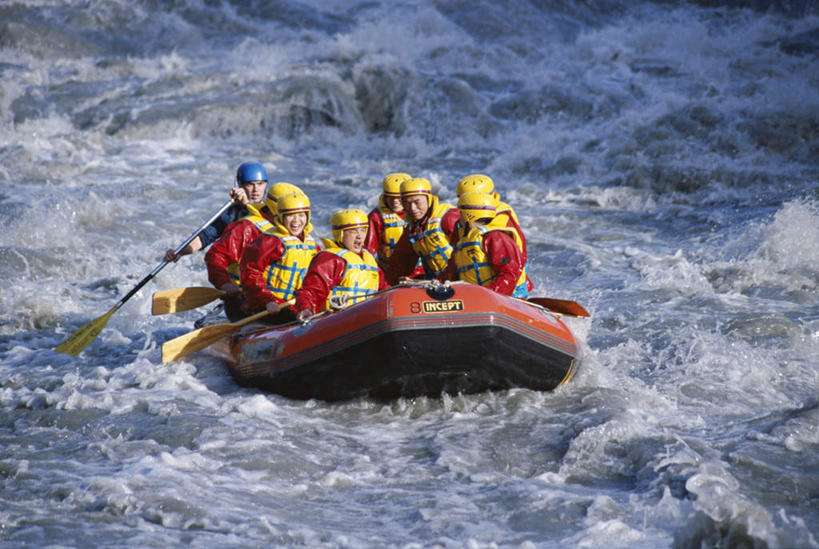reflective_clothes: (448, 228, 524, 295), (314, 246, 384, 310), (263, 225, 315, 308), (405, 204, 461, 272), (228, 213, 278, 284), (373, 199, 411, 257)
